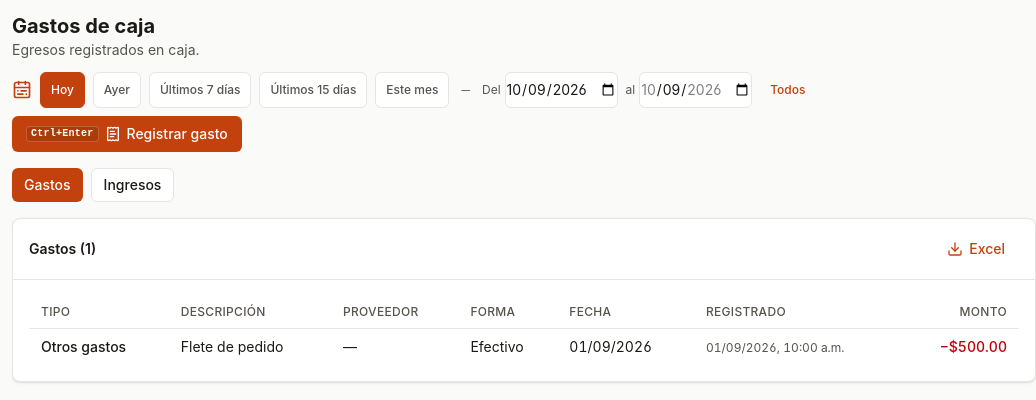
Test: GastosPage (smoke) › cambiar al tab Ingresos muestra el título y la fila de ingreso
The width and height of the screenshot is (1036, 400).
Expected: the text "Flete de pedido" is shown, [181, 338, 284, 355]
Step 1. Click the button "Ingresos" → (132, 185), box [91, 168, 174, 202]
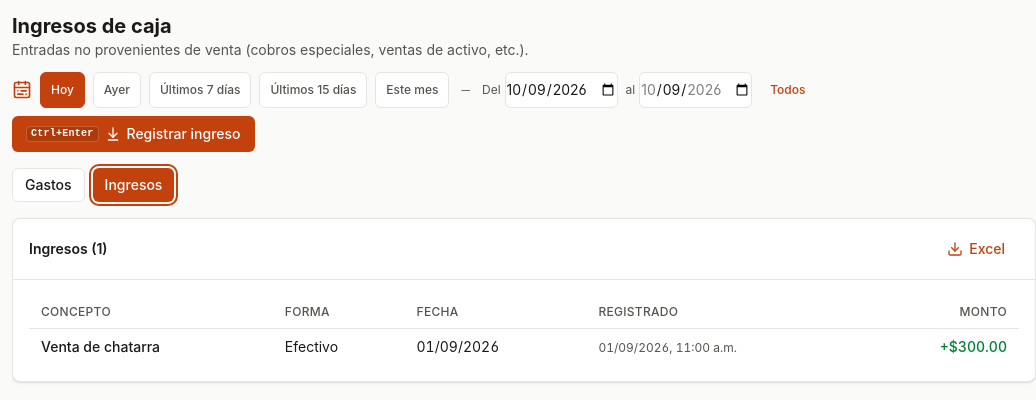
Now the heading "Ingresos de caja" is shown, box [12, 14, 172, 38]
Now the text "Venta de chatarra" is shown, box [41, 338, 160, 355]
Now the button "Ctrl+Enter Registrar ingreso" is shown, box [12, 116, 255, 152]
